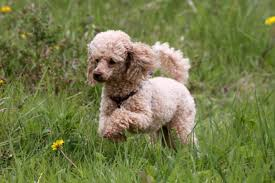Bulldog: (64, 23, 216, 161)
